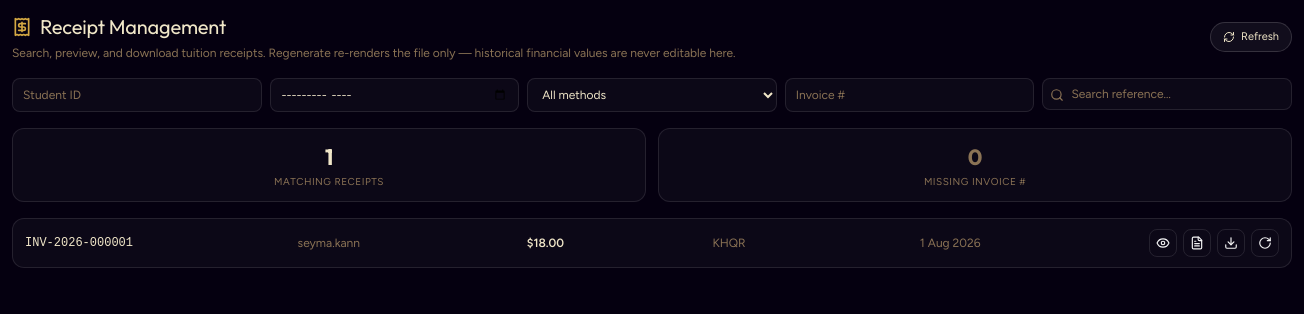
it: a failed download shows a row-level error without crashing the panel
Click the button with test id "receipt-download-pdf".
click(1197, 243)  # box [1183,229,1211,257]
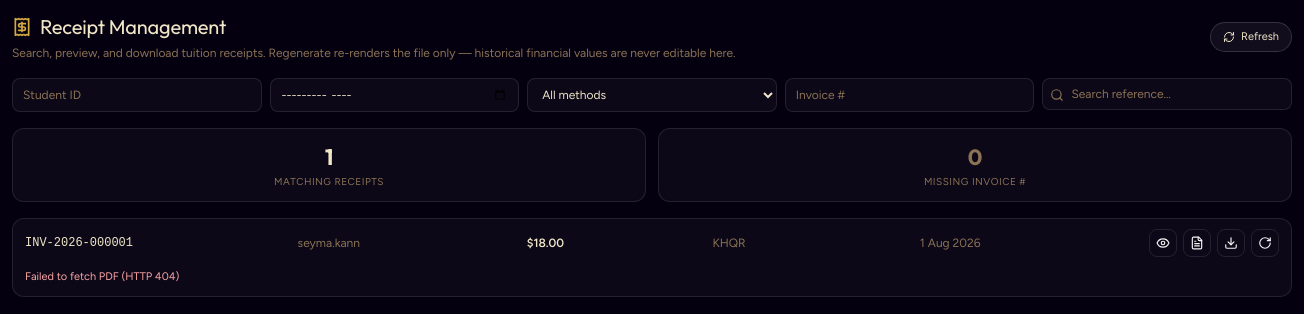
expect the text "Failed to fetch PDF (HTTP 404)" is shown: met, box [25,270,179,283]
